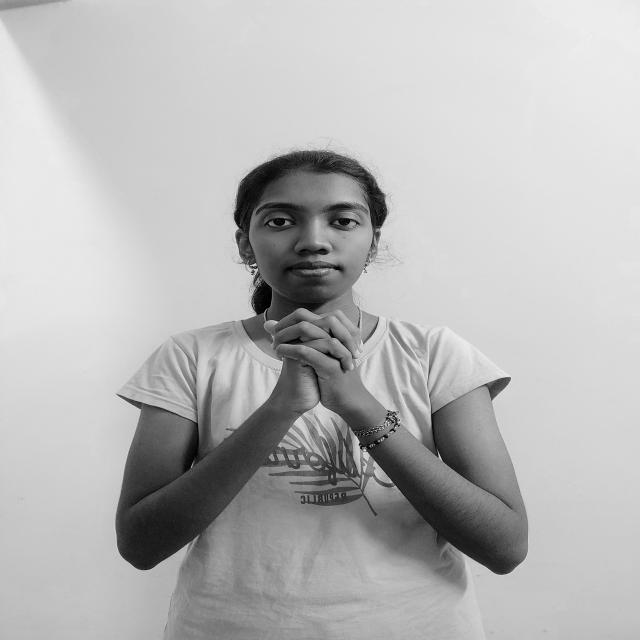Sorry: (257, 298, 372, 434)
